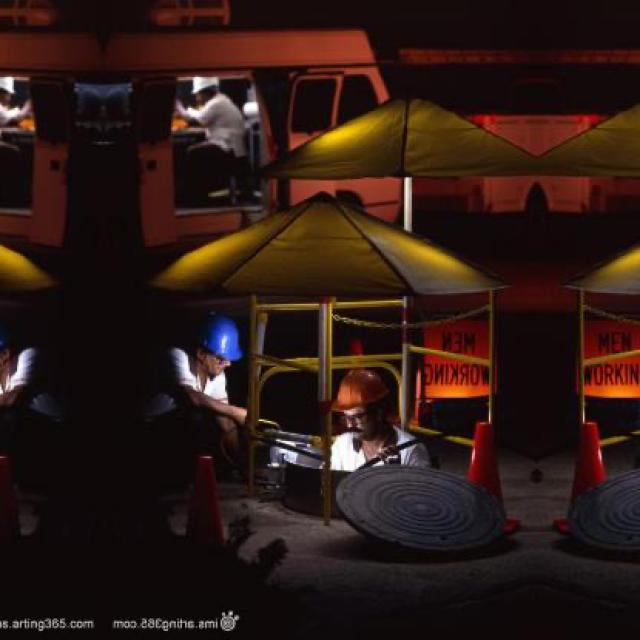con casco: (139, 315, 273, 410), (324, 349, 393, 456)
